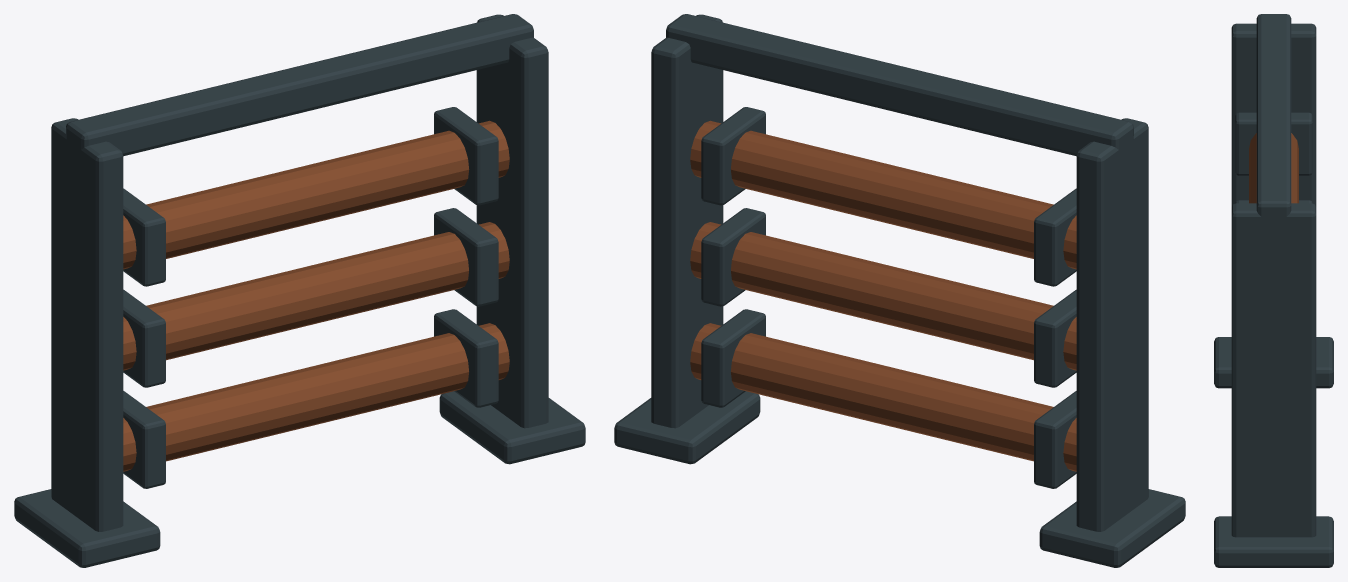
File: dz_pipe_rack.glb
3 views of the same model, side by side, from view 1: azimuth 30°, elevation 25°; view 2: azimuth 150°, elevation 25°; view 3: azimuth 270°, elevation 25° (orthographic). The views are drawn at different scales.
Parts seen in each view (by area): view 1: RackPost_-1.1, RackTop, RackPost_1.1, Pipe_1.42, Pipe_0.92, Pipe_0.42, RackFoot_-1.1, RackFoot_1.1, Clamp_1.42_0.86, Clamp_0.92_0.86, Clamp_0.42_0.86, Clamp_1.42_-0.86 (+2 smaller); view 2: RackPost_-1.1, RackTop, RackPost_1.1, Pipe_1.42, Pipe_0.92, Pipe_0.42, RackFoot_-1.1, RackFoot_1.1, Clamp_1.42_0.86, Clamp_0.92_0.86, Clamp_0.42_0.86, Clamp_1.42_-0.86 (+2 smaller); view 3: RackPost_1.1, RackTop, RackPost_-1.1, RackFoot_1.1, Clamp_1.42_-0.86, RackFoot_-1.1, Pipe_1.42.
Boxes of the visible parts, x1,y1,x2,y2 form: RackPost_-1.1: (51, 118, 123, 531); RackTop: (66, 14, 533, 156); RackPost_1.1: (476, 14, 548, 428); Pipe_1.42: (123, 120, 509, 269); Pipe_0.92: (123, 222, 509, 370); Pipe_0.42: (123, 323, 509, 471); RackFoot_-1.1: (14, 489, 160, 567); RackFoot_1.1: (439, 391, 585, 464); Clamp_1.42_0.86: (434, 107, 498, 205); Clamp_0.92_0.86: (434, 208, 498, 306); Clamp_0.42_0.86: (434, 309, 498, 407); Clamp_1.42_-0.86: (123, 188, 165, 286); RackPost_-1.1: (1076, 118, 1148, 531); RackTop: (666, 14, 1133, 156); RackPost_1.1: (651, 14, 723, 428); Pipe_1.42: (690, 120, 1076, 269); Pipe_0.92: (690, 222, 1076, 370); Pipe_0.42: (690, 323, 1076, 471); RackFoot_-1.1: (1039, 489, 1185, 567); RackFoot_1.1: (614, 391, 760, 464); Clamp_1.42_0.86: (701, 107, 765, 205); Clamp_0.92_0.86: (701, 208, 765, 306); Clamp_0.42_0.86: (701, 309, 765, 407); Clamp_1.42_-0.86: (1034, 188, 1076, 286); RackPost_1.1: (1231, 203, 1316, 537); RackTop: (1256, 14, 1291, 226); RackPost_-1.1: (1231, 23, 1316, 206); RackFoot_1.1: (1214, 516, 1333, 567); Clamp_1.42_-0.86: (1235, 112, 1312, 175); RackFoot_-1.1: (1214, 337, 1333, 388); Pipe_1.42: (1249, 133, 1298, 203).
Size of the model in its own units: 2.62 by 2.03 by 0.62.
